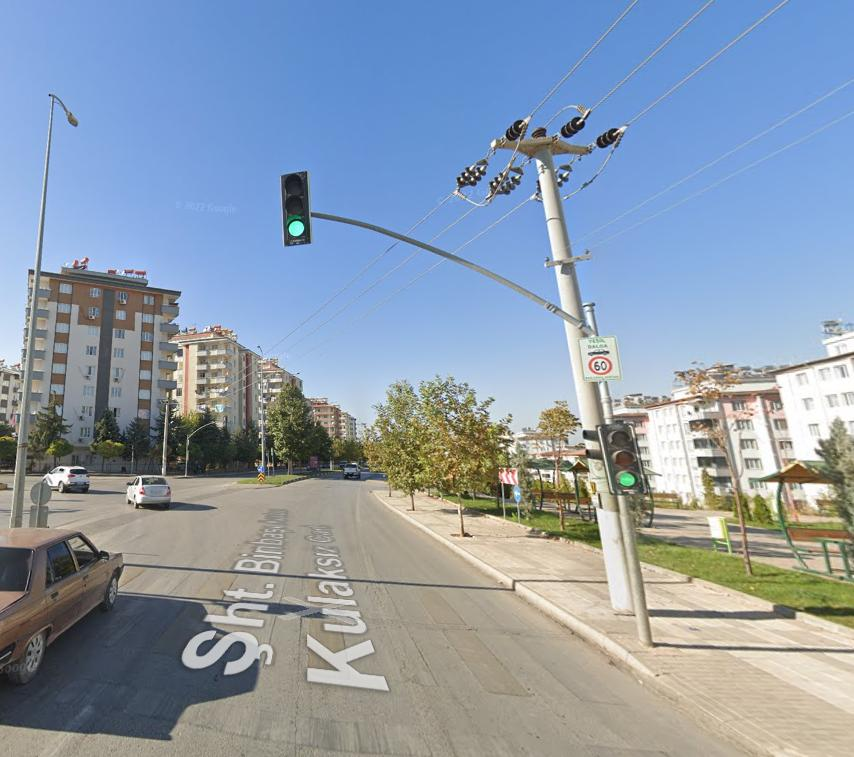greenlight: (600, 426, 646, 497), (282, 175, 310, 248)
